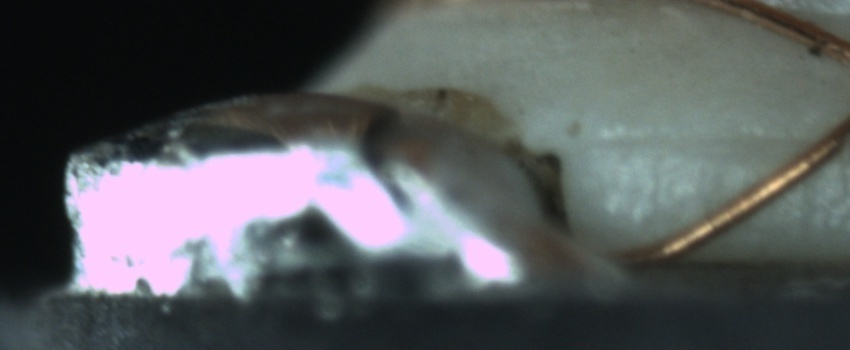DL: (606, 103, 843, 181)
